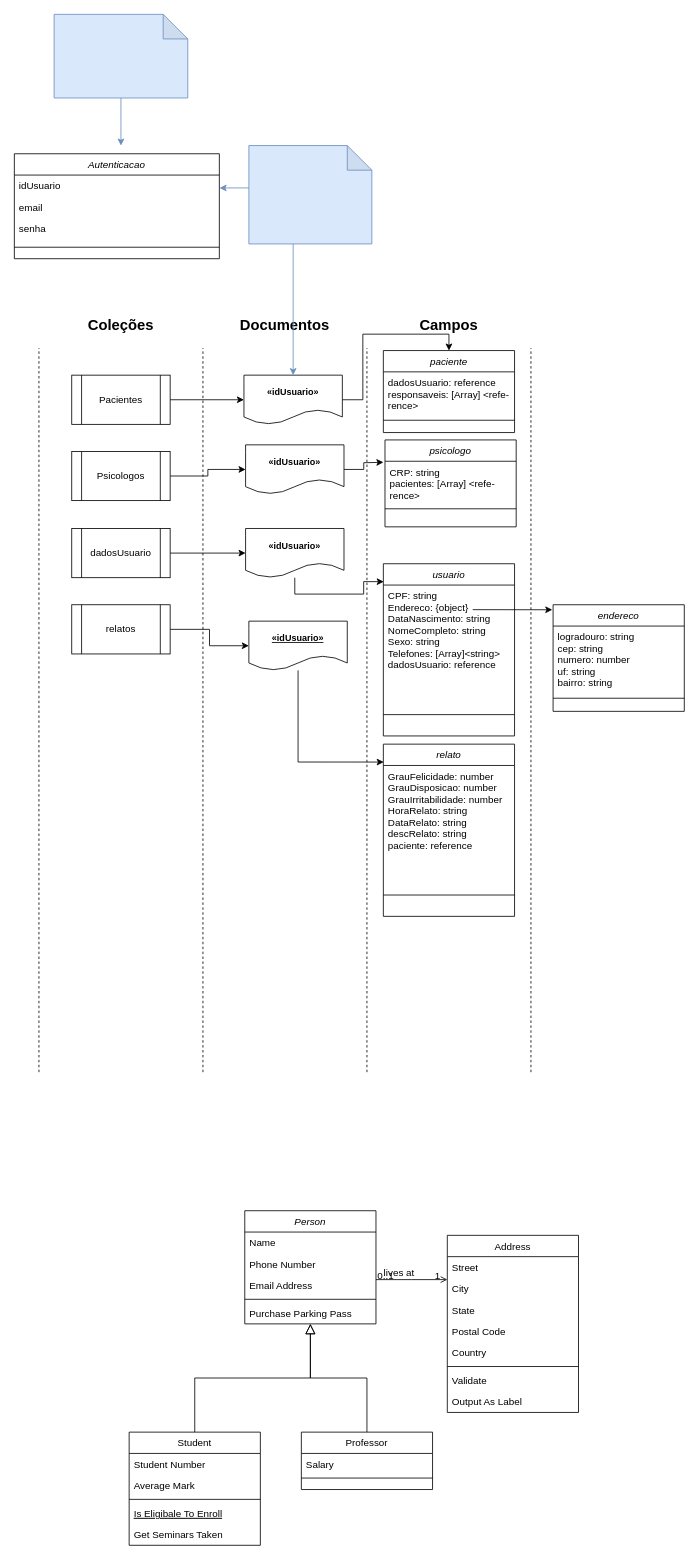
The diagram is 699 pixels wide and 1562 high, and some of its shapes have lost their labels. Each missing label, with the centre of its shape:
O id de usuário será definido pela autenticação: (x=310, y=194)
Os dados de autenticação vêm de um módulo separado do firebase: (x=120, y=56)
